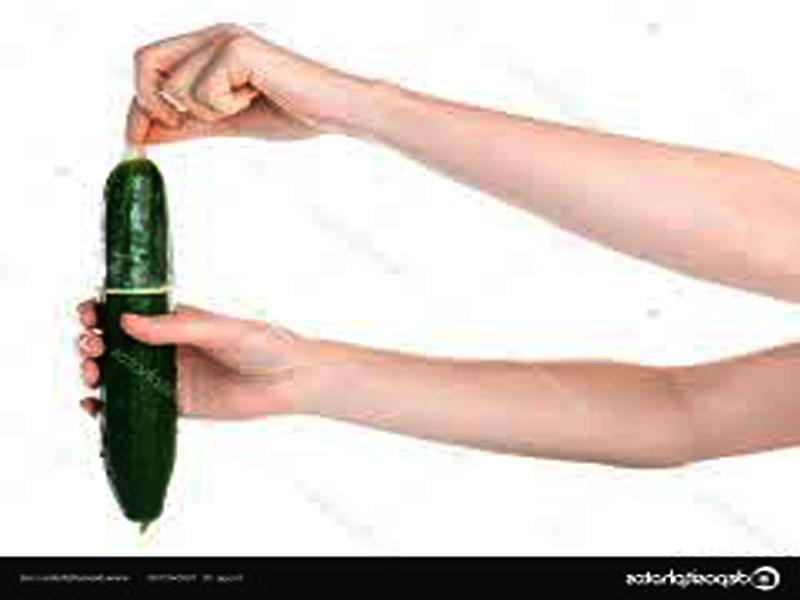Cucumber: (102, 157, 169, 531)
